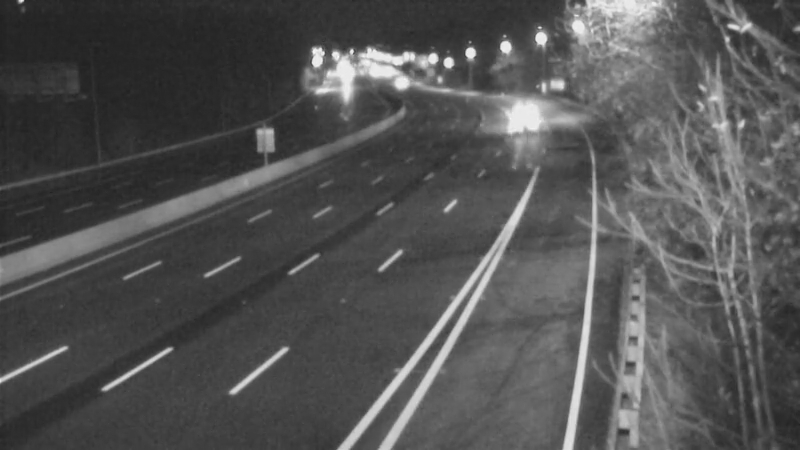vehicle: (373, 56, 423, 106), (499, 83, 549, 133), (504, 105, 554, 155)
